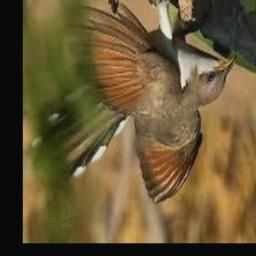Cuckoo: (33, 0, 237, 205)
